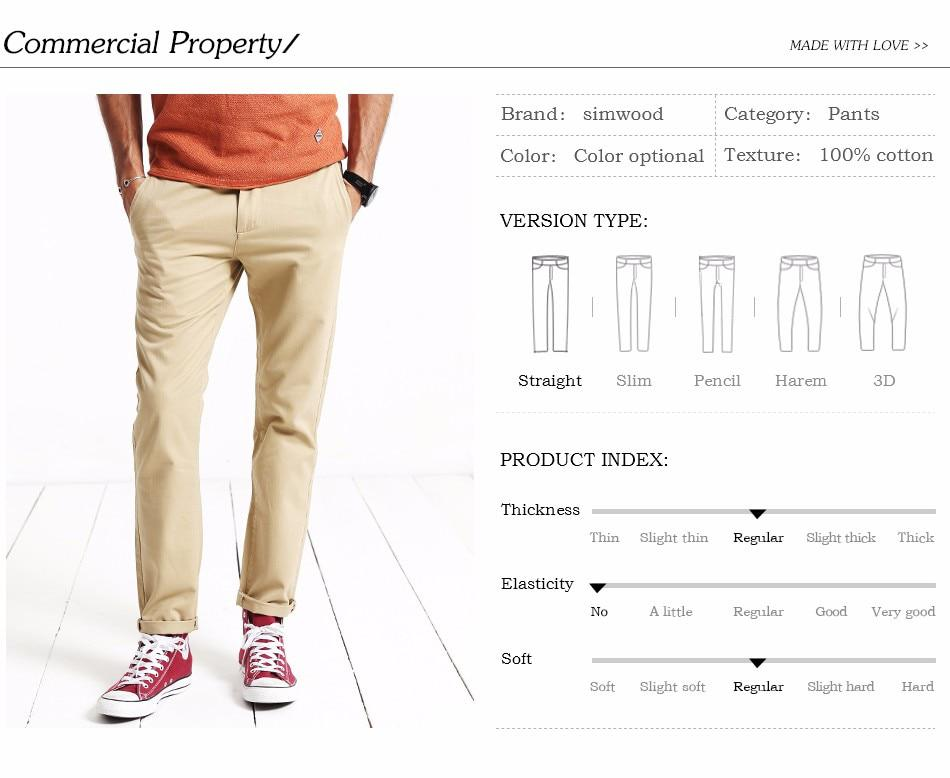pants: (121, 158, 349, 627)
